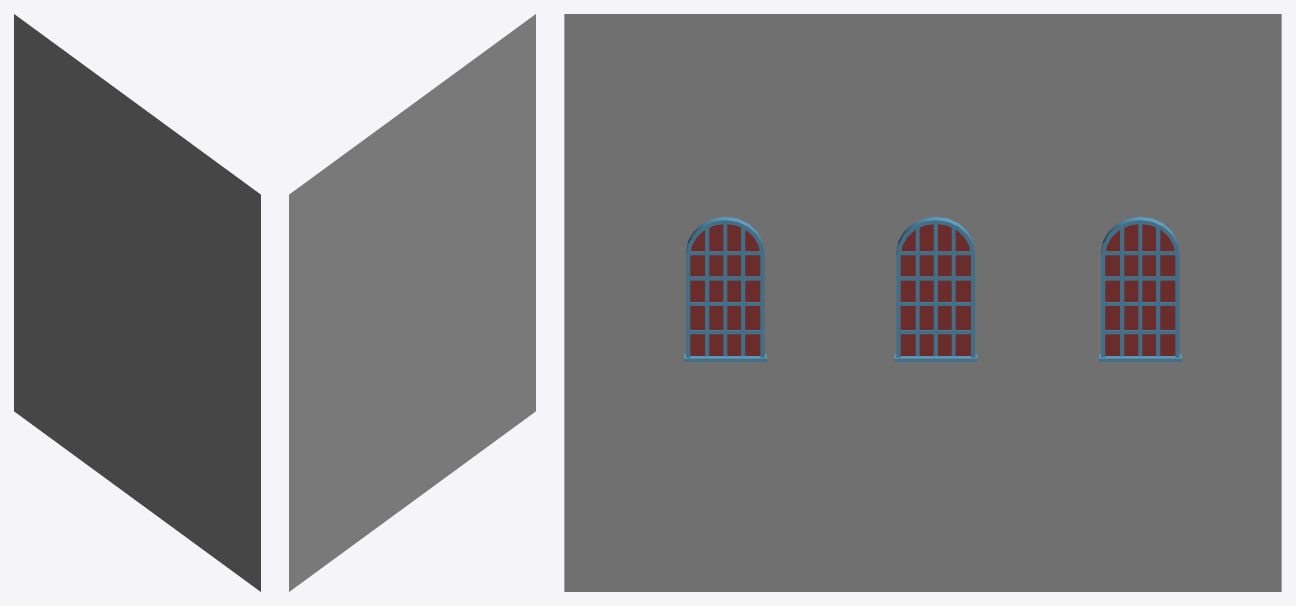
Rendered from Prop_Wallext_8x9_3Windows_02.fbx.
The picture shows the model from 3 angles, left to right: view 1: azimuth 30°, elevation 25°; view 2: azimuth 150°, elevation 25°; view 3: azimuth 270°, elevation 25°; orthographic projection. The views are drawn at different scales.
Visible parts, largest first — view 1: Prop_Wallext_8x9_3Windows_02; view 2: Prop_Wallext_8x9_3Windows_02; view 3: Prop_Wallext_8x9_3Windows_02.
Part boxes in pixels (left/top/right/bottom): Prop_Wallext_8x9_3Windows_02: left=14, top=14, right=260, bottom=591; Prop_Wallext_8x9_3Windows_02: left=289, top=14, right=535, bottom=591; Prop_Wallext_8x9_3Windows_02: left=564, top=14, right=1281, bottom=591.
Size of the model in its own units: 0.1429 by 8 by 9.
